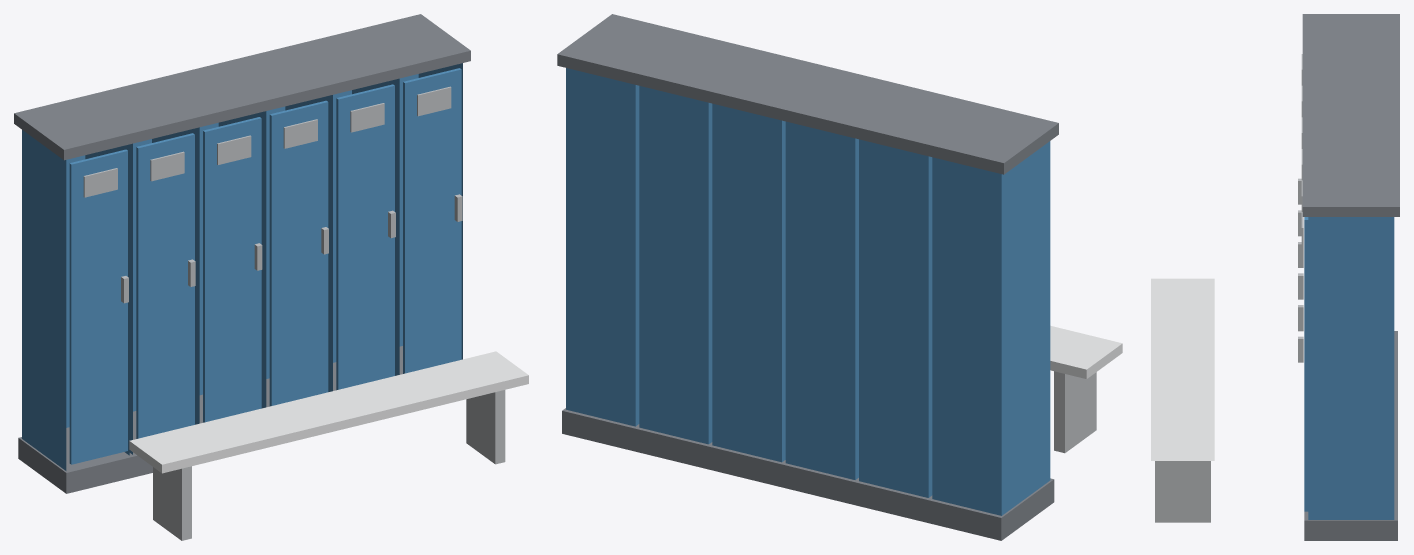
The model's file is SM_LOCKER_BANK.fbx.
3 views of the same model, side by side, from view 1: azimuth 30°, elevation 25°; view 2: azimuth 150°, elevation 25°; view 3: azimuth 270°, elevation 25° (orthographic). The views are drawn at different scales.
Visible parts, largest first — view 1: SM_LOCKER_BANK; view 2: SM_LOCKER_BANK; view 3: SM_LOCKER_BANK.
Part boxes in pixels (x1=…): SM_LOCKER_BANK: x1=14, y1=14, x2=528, y2=540; SM_LOCKER_BANK: x1=557, y1=14, x2=1122, y2=540; SM_LOCKER_BANK: x1=1151, y1=14, x2=1399, y2=540.
Bounding box in the file's own units: 244 × 198 × 133.
